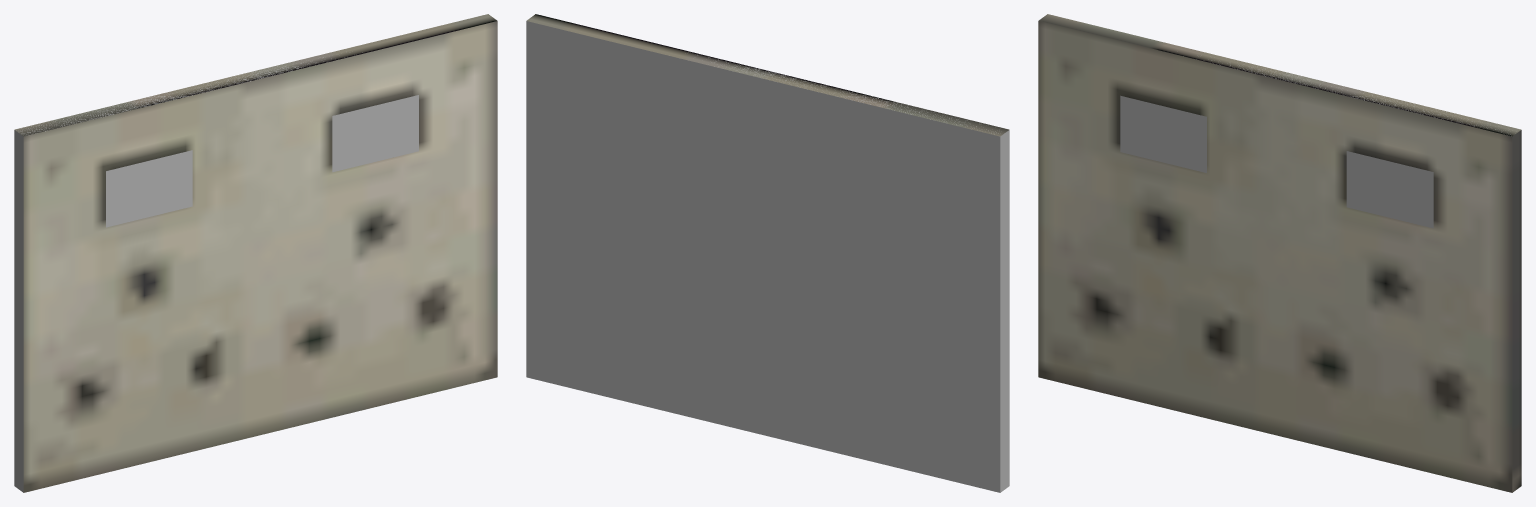
File: light_switch_03.DAE
3 views of the same model, side by side, from view 1: azimuth 30°, elevation 25°; view 2: azimuth 150°, elevation 25°; view 3: azimuth 330°, elevation 25° (orthographic).
Parts seen in each view (by area): view 1: light_switch_three100, bounds; view 2: bounds, light_switch_three100; view 3: light_switch_three100, bounds.
Boxes of the visible parts, left/top/right/bottom form: light_switch_three100: left=14, top=14, right=497, bottom=492; bounds: left=14, top=52, right=418, bottom=492; bounds: left=526, top=21, right=1009, bottom=492; light_switch_three100: left=526, top=14, right=1009, bottom=136; light_switch_three100: left=1038, top=14, right=1521, bottom=492; bounds: left=1120, top=60, right=1510, bottom=228.
Size of the model in its own units: 40.29 by 1.4 by 28.94.
